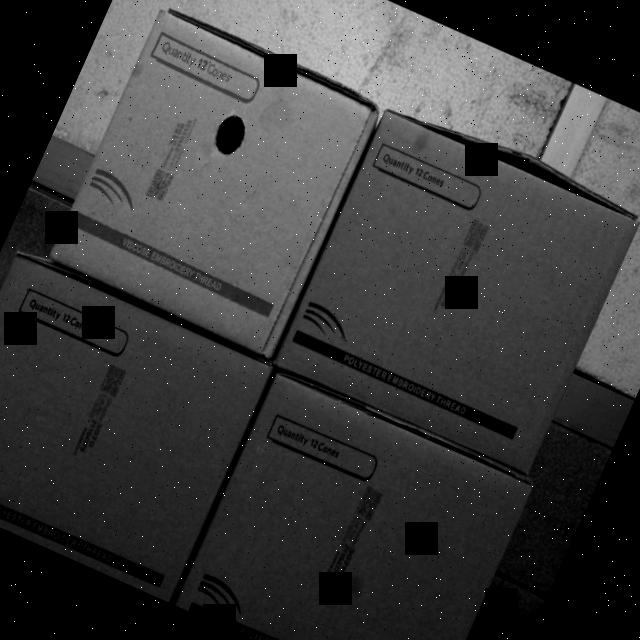box: (272, 104, 640, 482), (46, 6, 386, 364), (0, 248, 276, 602), (173, 373, 535, 640)
